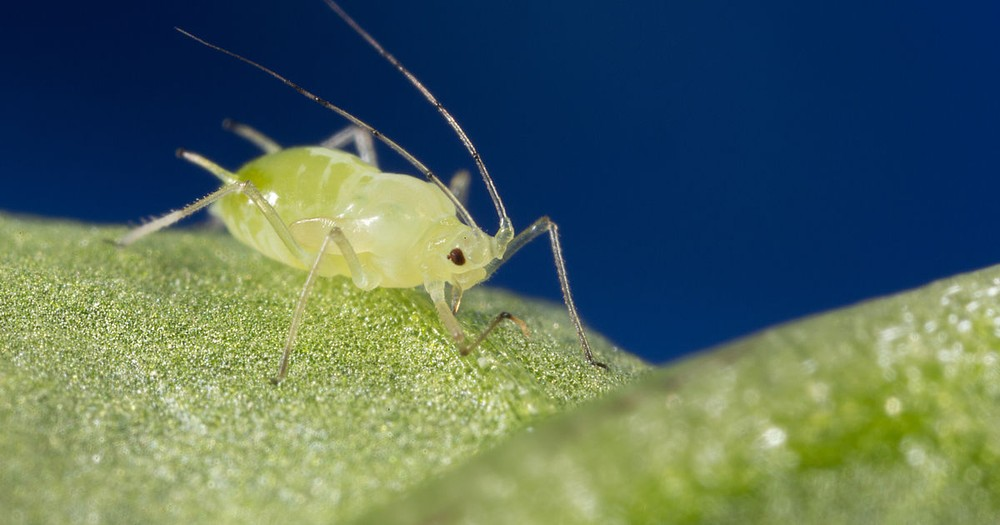Pulgon: (127, 28, 614, 369)
